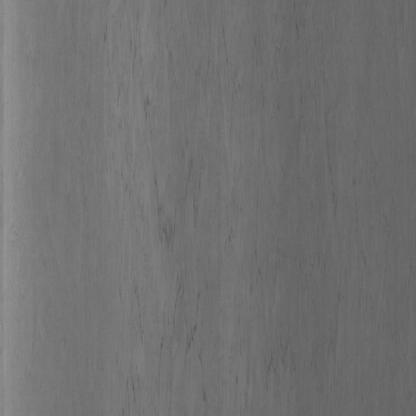silk_spot: (103, 32, 256, 394)
